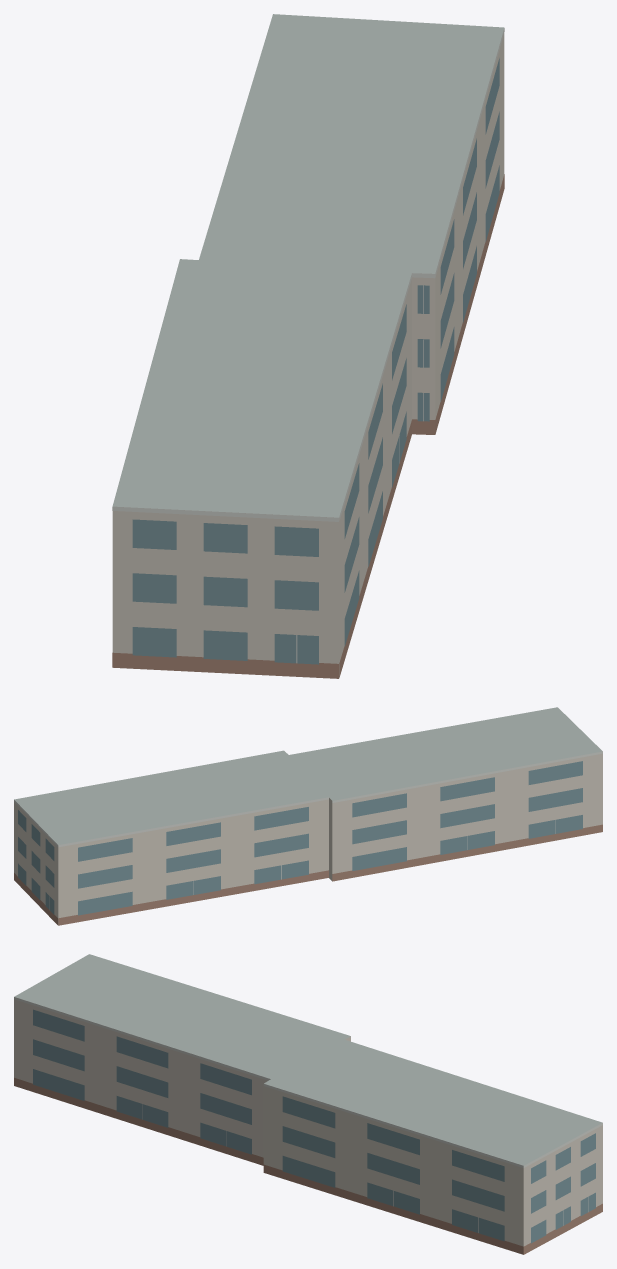
File: survey-upis-32778318.glb
3 renders of one model, top to bottom at view 1: azimuth 30°, elevation 25°; view 2: azimuth 150°, elevation 25°; view 3: azimuth 270°, elevation 25°, orthographic. The views are drawn at different scales.
Visible parts, largest first — view 1: survey-upis-32778318.tmp; view 2: survey-upis-32778318.tmp; view 3: survey-upis-32778318.tmp.
Part boxes in pixels (x1,y1,x2,y2): survey-upis-32778318.tmp: [112, 14, 504, 678]; survey-upis-32778318.tmp: [14, 707, 602, 925]; survey-upis-32778318.tmp: [14, 954, 602, 1254].
Size of the model in its own units: 46.65 by 9.15 by 54.82.
